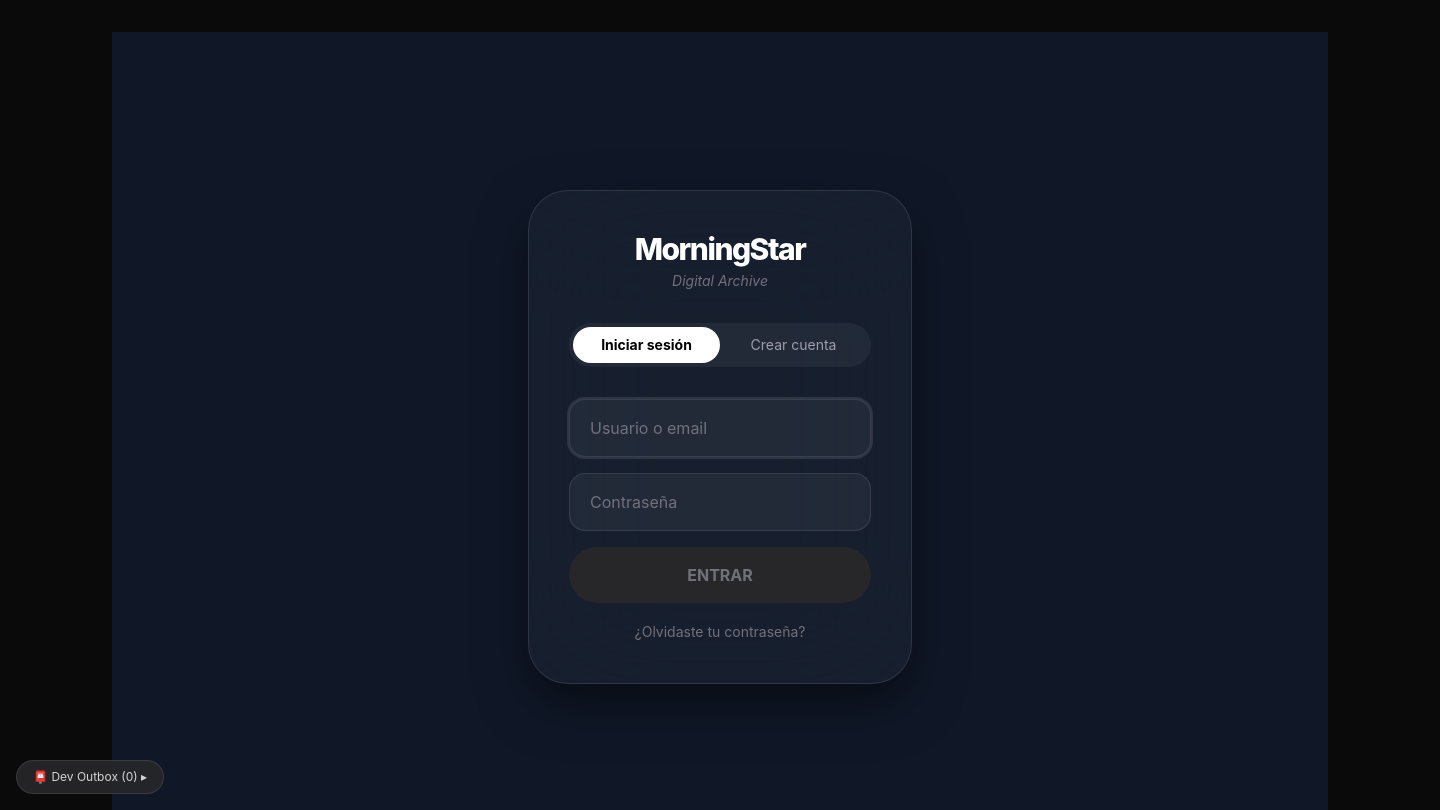
Test case: Autenticación web (integración real) › registro: queda pendiente de verificación y el email llega al Dev Outbox
The image size is (1440, 810).
Click the tab "Crear cuenta" at (794,345), box [720, 327, 867, 363]
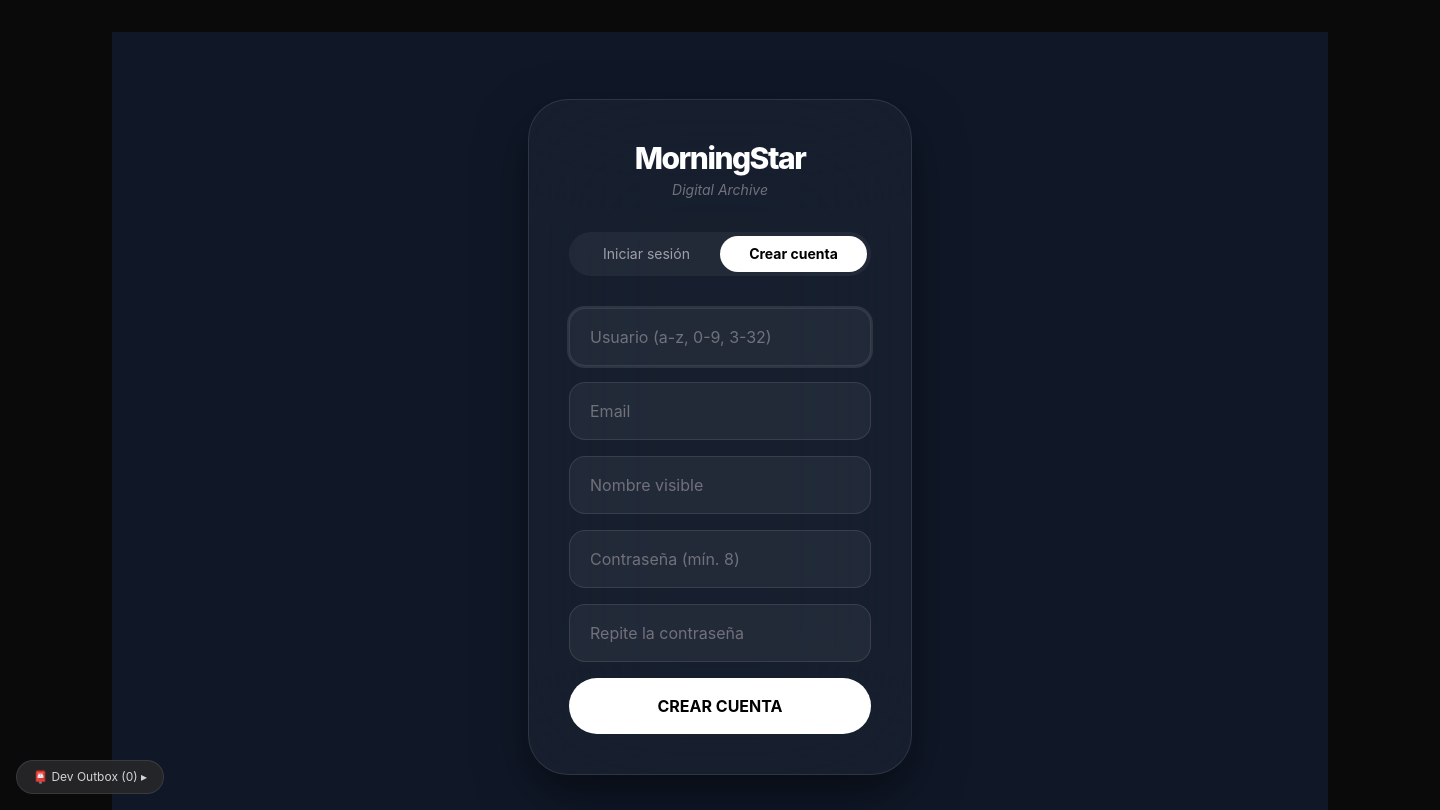
Type "osvaldo42" into the field with placeholder "Usuario (a-z, 0-9, 3-32)" at (720,337), box [569, 308, 871, 366]
Type "osvaldo@test.dev" into the field with placeholder "Email" at (720,411), box [569, 382, 871, 440]
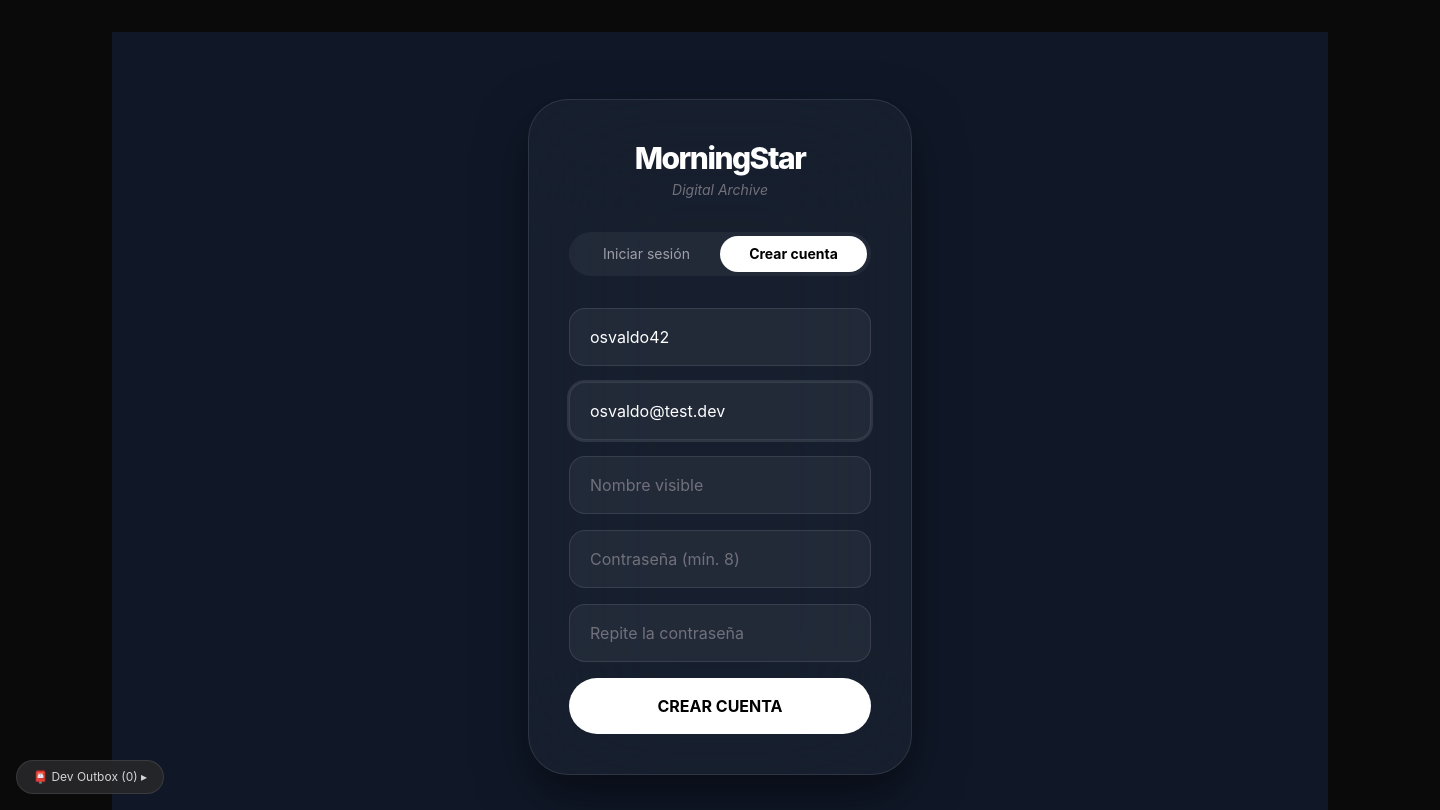
Type "Osvaldo Peralta" into the field with placeholder "Nombre visible" at (720,485), box [569, 456, 871, 514]
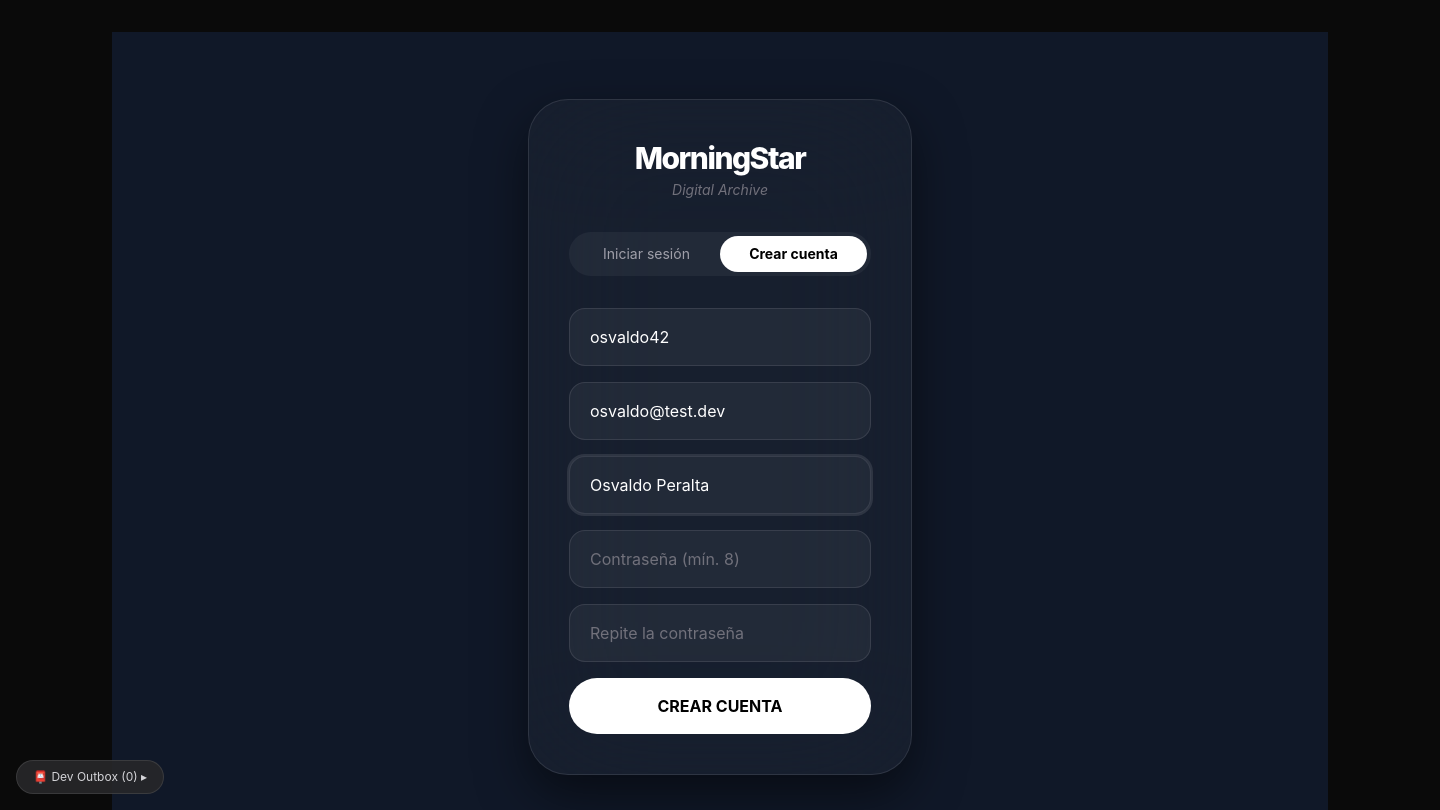
Type "ClaveSegura123!" into the password field with placeholder "Contraseña (mín. 8)" at (720,559), box [569, 530, 871, 588]
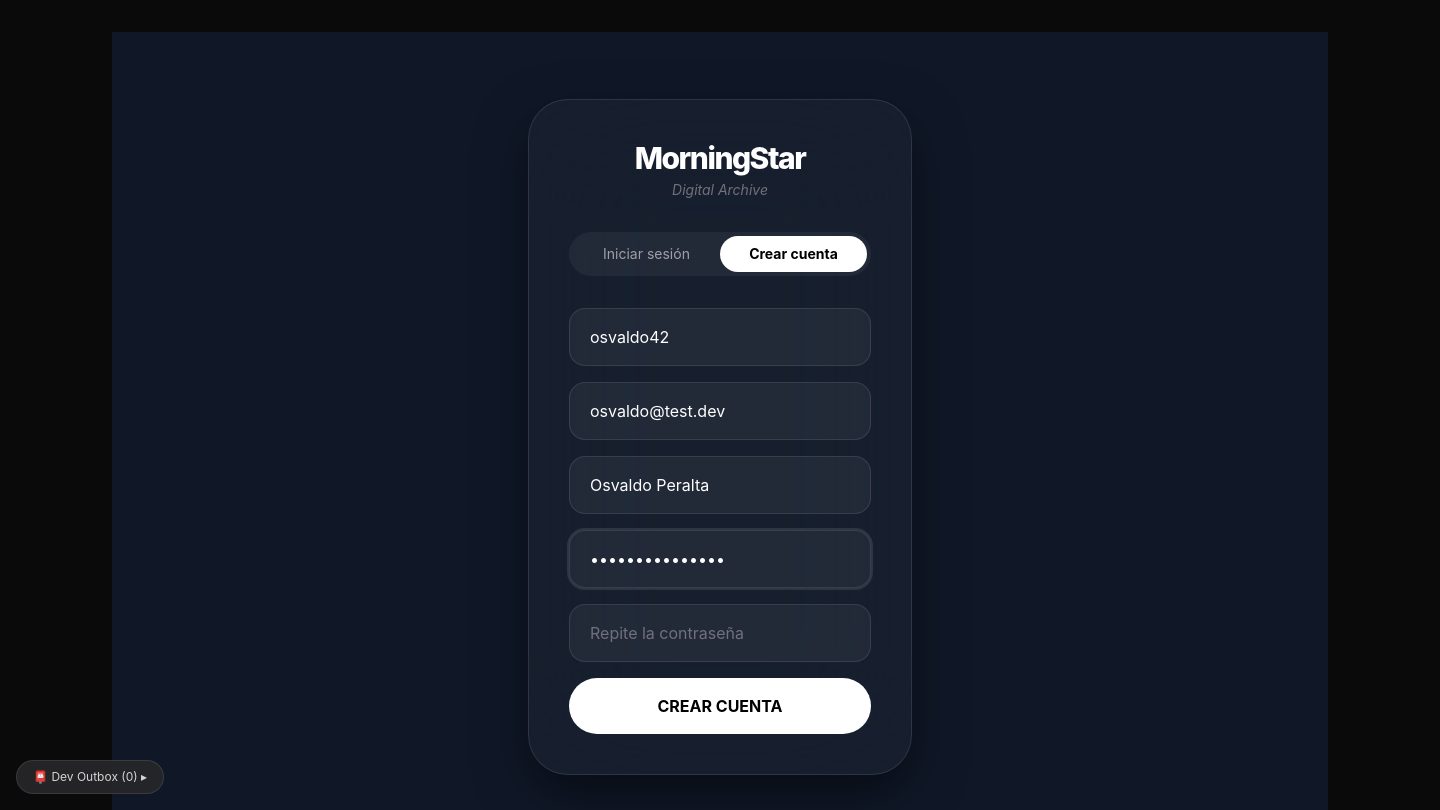
Type "ClaveSegura123!" into the password field with placeholder "Repite la contraseña" at (720,633), box [569, 604, 871, 662]
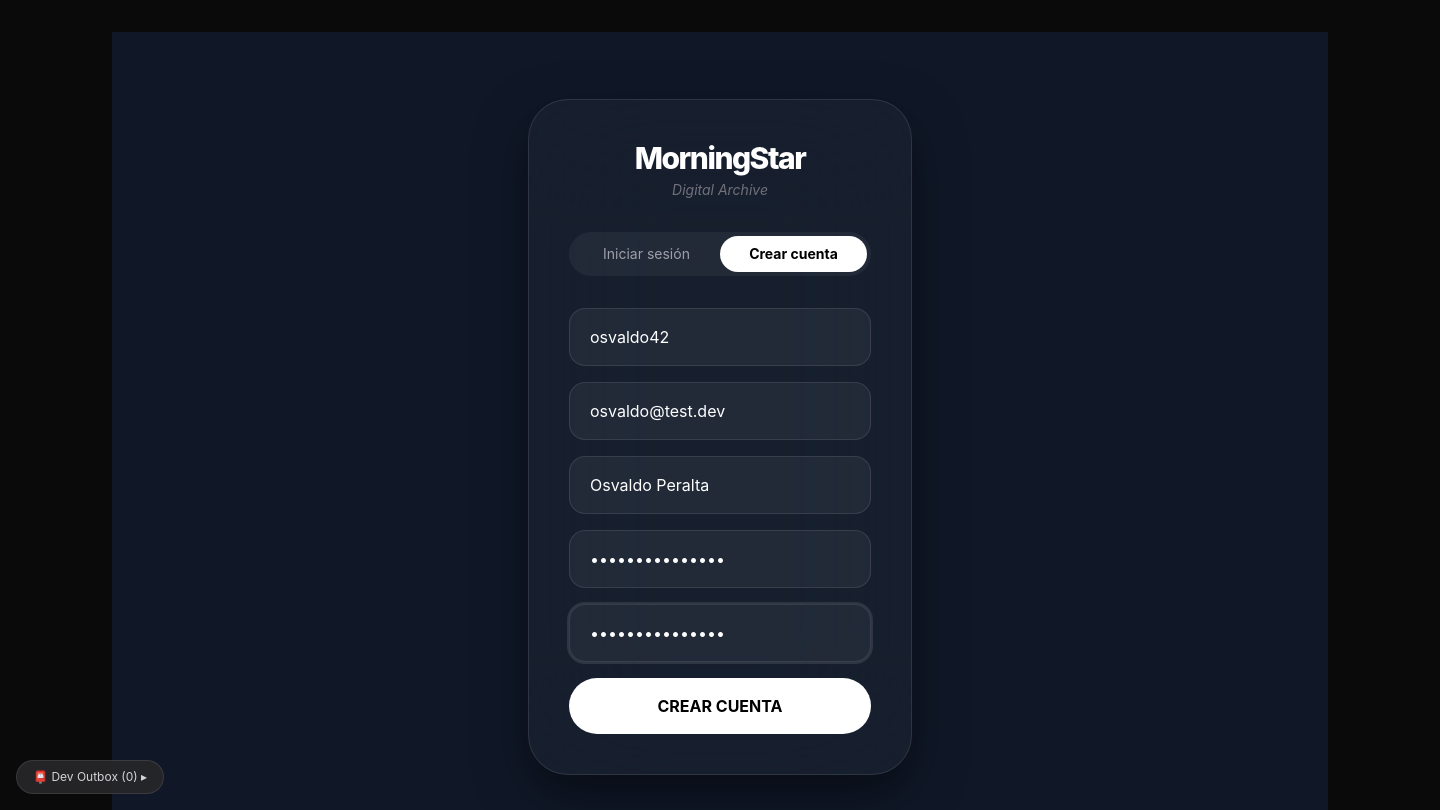
Click the button "CREAR CUENTA" at (720,706), box [569, 678, 871, 734]
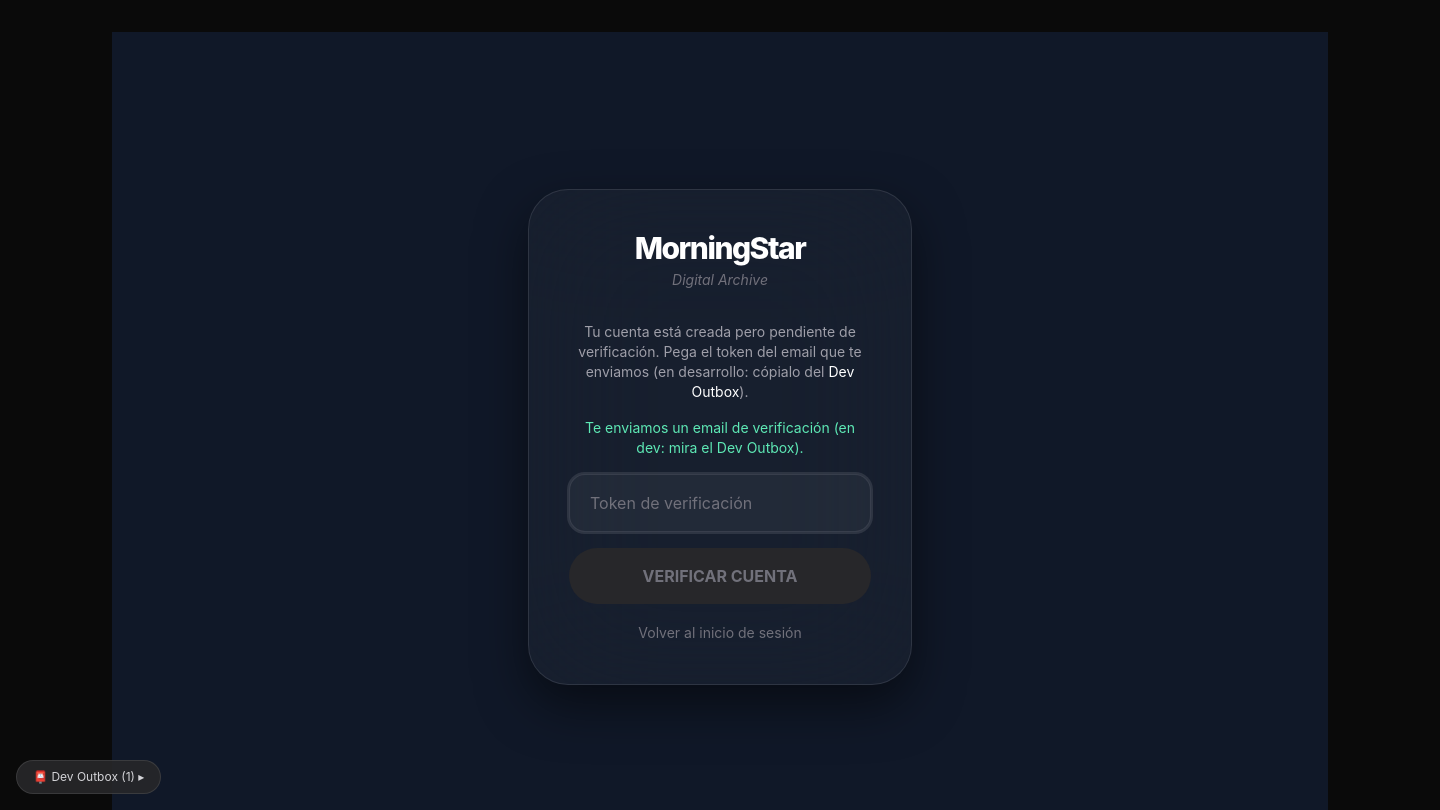
Now the form named "verificación de email" is shown, box [569, 322, 871, 644]
Now the text "pendiente de verificación" is shown, box [578, 323, 862, 380]
Now the element with test id "dev-outbox" shows "Dev Outbox (1)", box [16, 760, 161, 794]
